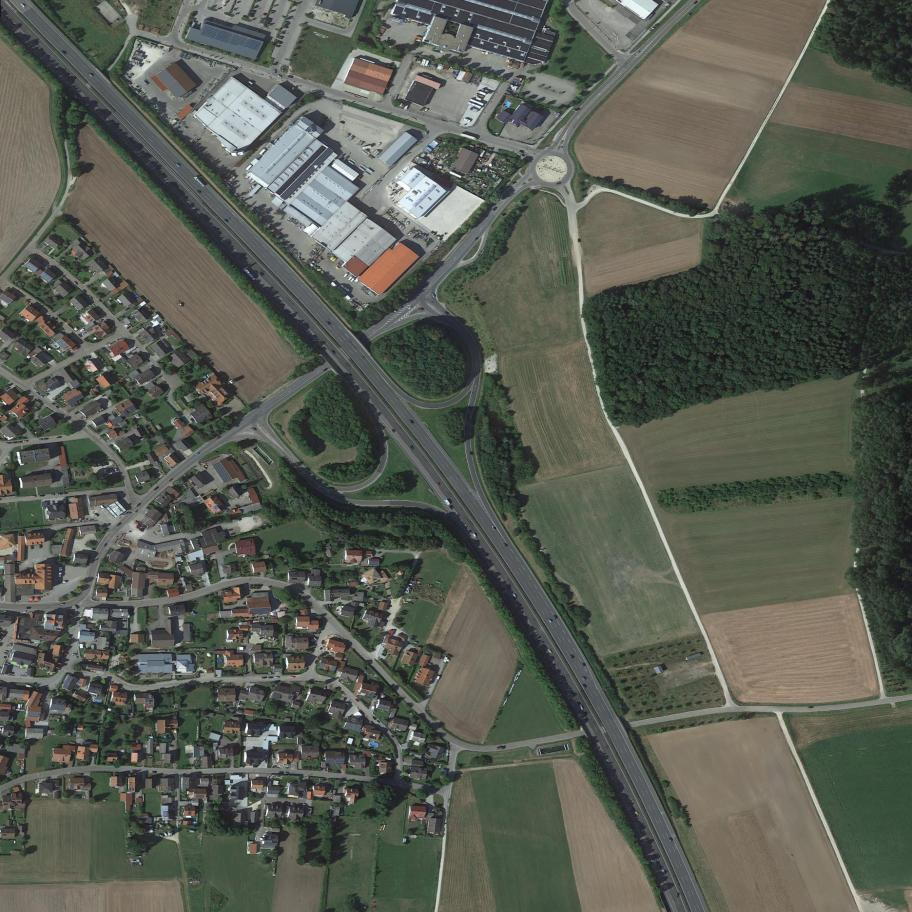large-vehicle: (244, 267, 256, 280), (460, 132, 477, 141), (194, 176, 205, 188), (467, 102, 483, 110), (469, 99, 484, 106), (446, 498, 453, 508), (477, 90, 487, 96), (476, 93, 485, 99), (470, 106, 479, 112), (491, 207, 497, 213), (175, 162, 181, 168), (116, 522, 123, 527), (343, 273, 349, 278), (348, 275, 353, 281), (350, 277, 355, 283), (61, 50, 67, 55), (88, 73, 94, 78), (20, 2, 25, 8), (497, 746, 504, 750), (464, 118, 471, 122), (393, 220, 398, 225), (163, 832, 168, 837), (579, 704, 583, 710), (635, 811, 639, 816), (407, 306, 412, 310), (399, 224, 403, 229), (662, 870, 665, 875), (388, 216, 391, 220), (169, 832, 171, 836), (197, 726, 198, 733), (197, 734, 198, 738)
small-vehicle: (103, 542, 109, 548), (422, 108, 429, 113), (223, 218, 229, 223), (553, 614, 558, 619), (570, 654, 575, 659), (409, 419, 414, 424), (474, 236, 479, 241), (277, 74, 282, 79), (372, 715, 377, 720), (154, 486, 159, 491), (195, 452, 200, 457), (548, 618, 553, 623), (197, 189, 202, 194), (410, 445, 414, 450), (169, 478, 174, 482), (136, 503, 141, 507), (356, 698, 360, 703), (376, 719, 380, 724), (134, 510, 138, 515), (492, 525, 496, 530), (504, 542, 508, 547), (513, 594, 517, 599), (582, 662, 587, 666), (582, 676, 587, 680), (74, 281, 78, 286), (323, 686, 327, 690), (326, 321, 330, 325), (583, 684, 587, 688), (636, 51, 640, 55), (27, 606, 32, 609), (57, 436, 62, 439), (669, 837, 672, 842), (43, 438, 48, 441), (18, 441, 23, 444), (23, 440, 28, 443), (437, 482, 440, 486), (432, 294, 435, 298), (273, 70, 277, 73), (72, 653, 76, 656), (391, 735, 395, 738), (470, 451, 473, 455), (37, 439, 43, 441), (6, 442, 12, 444), (262, 677, 267, 679), (291, 676, 296, 678), (61, 603, 65, 605), (269, 677, 273, 679), (285, 772, 289, 774), (13, 442, 17, 444), (677, 893, 679, 896), (275, 677, 280, 678), (404, 602, 408, 603)
